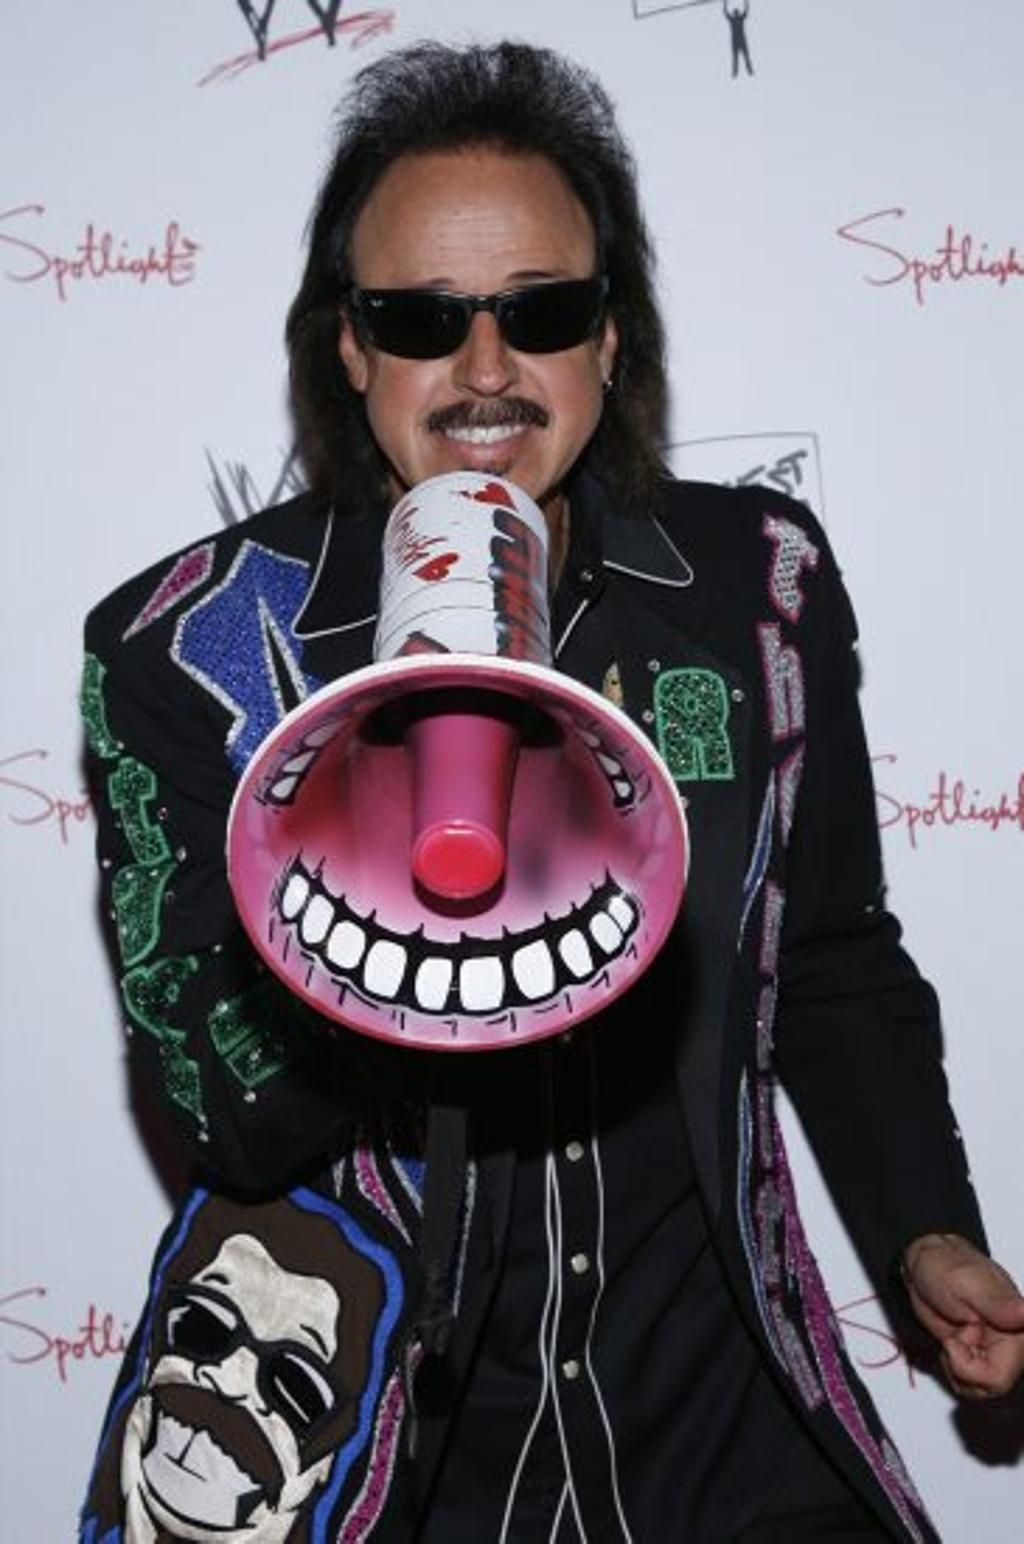face: (356, 188, 597, 510)
